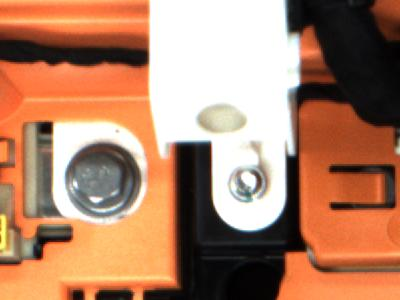nut_b: (64, 141, 146, 222)
screw_m: (217, 163, 272, 208)
